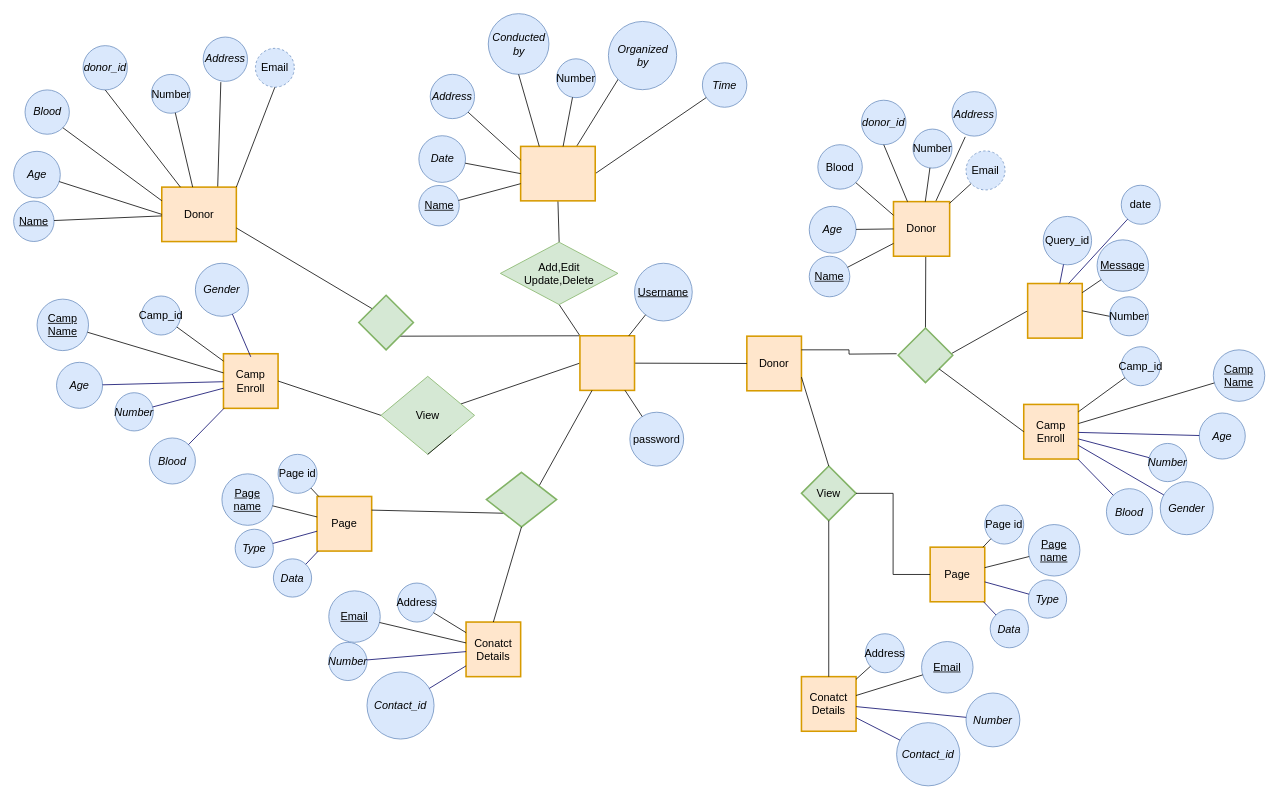
This 1278x800 diagram has some shape labels left out. Here are the shapes that lost their labels. From the top down, the box of each, then its label:
(519, 145, 596, 201): Camp
(358, 294, 414, 350): Add Delete
(1026, 282, 1083, 339): Contact Query
(579, 335, 635, 391): Admin
(897, 327, 953, 383): Add
(485, 471, 557, 527): Update
